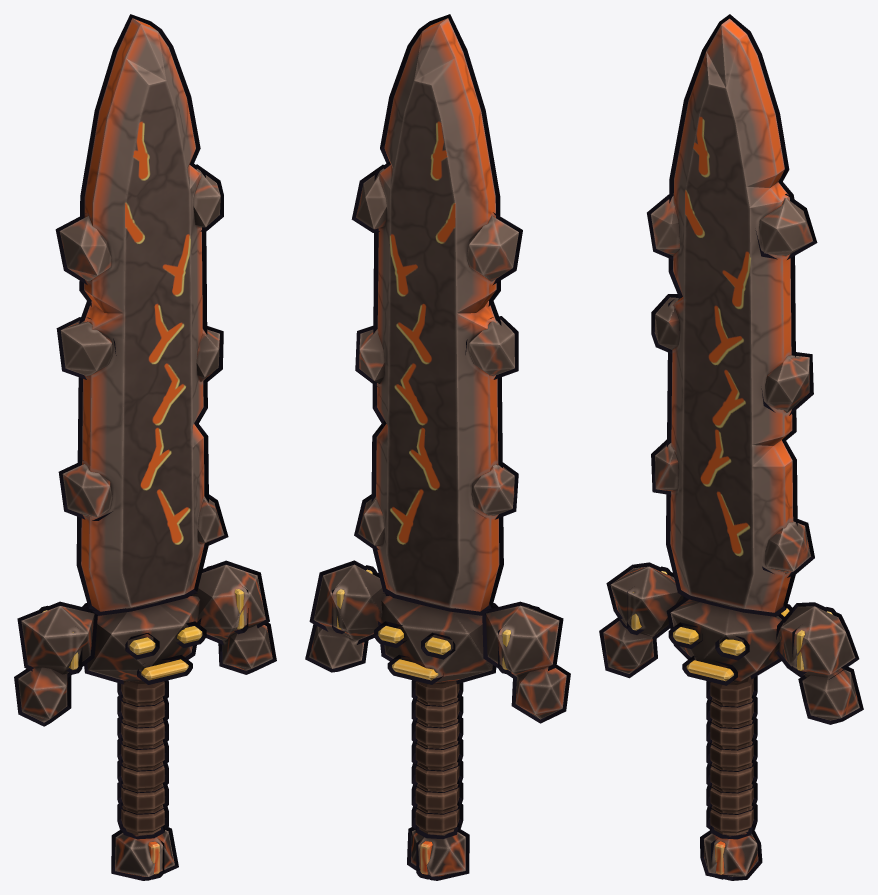
File: MagmaGolemBlade.fbx
3 views of the same model, side by side, from view 1: azimuth 30°, elevation 25°; view 2: azimuth 150°, elevation 25°; view 3: azimuth 330°, elevation 25° (orthographic).
Parts seen in each view (by area): view 1: MagmaGolemBlade, MagmaGolemBladeOutline, MagmaGolemBladeLavaGlow; view 2: MagmaGolemBlade, MagmaGolemBladeOutline, MagmaGolemBladeLavaGlow; view 3: MagmaGolemBlade, MagmaGolemBladeOutline, MagmaGolemBladeLavaGlow.
Part boxes in pixels (x1,y1,x2,y2): MagmaGolemBlade: (18, 18, 272, 876); MagmaGolemBladeOutline: (14, 14, 276, 880); MagmaGolemBladeLavaGlow: (42, 589, 244, 874); MagmaGolemBlade: (309, 18, 566, 876); MagmaGolemBladeOutline: (305, 14, 570, 880); MagmaGolemBladeLavaGlow: (336, 569, 510, 874); MagmaGolemBlade: (603, 18, 859, 876); MagmaGolemBladeOutline: (599, 14, 863, 880); MagmaGolemBladeLavaGlow: (631, 571, 832, 874).
Size of the model in its own units: 140 by 458 by 55.84.
Materials: 2 (1 with a texture image).
